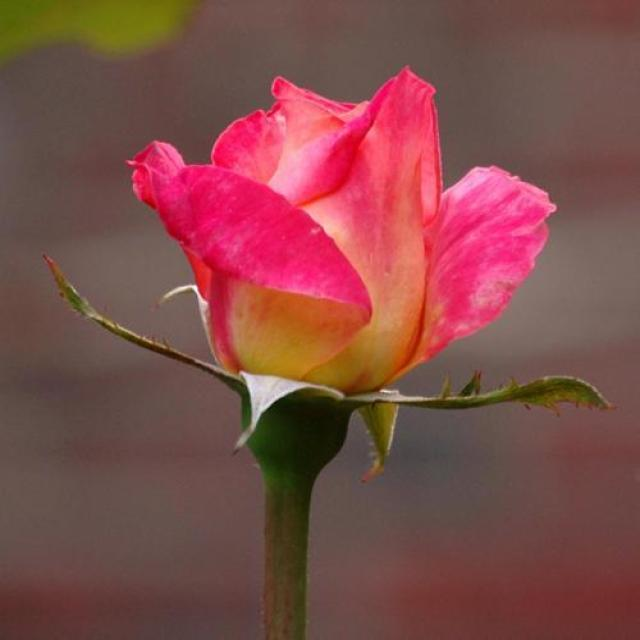rose: (21, 48, 626, 489)
